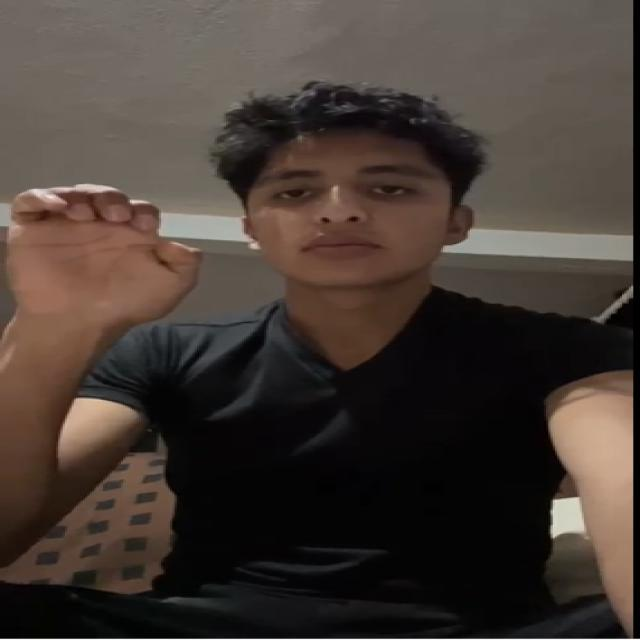E: (3, 164, 225, 332)
